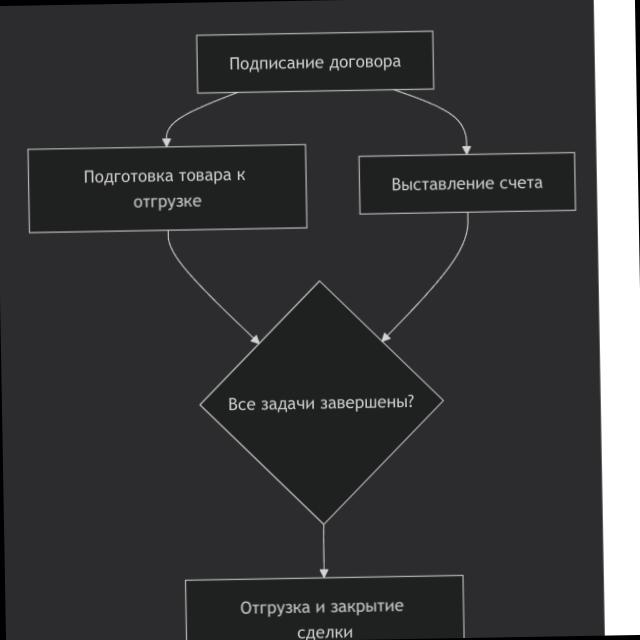arrow: (379, 212, 474, 341), (163, 229, 259, 345), (391, 88, 473, 155), (158, 93, 241, 147), (318, 525, 329, 578)
diamond: (196, 277, 446, 527)
rectangle: (27, 144, 306, 233), (196, 30, 435, 94), (358, 151, 576, 214)
